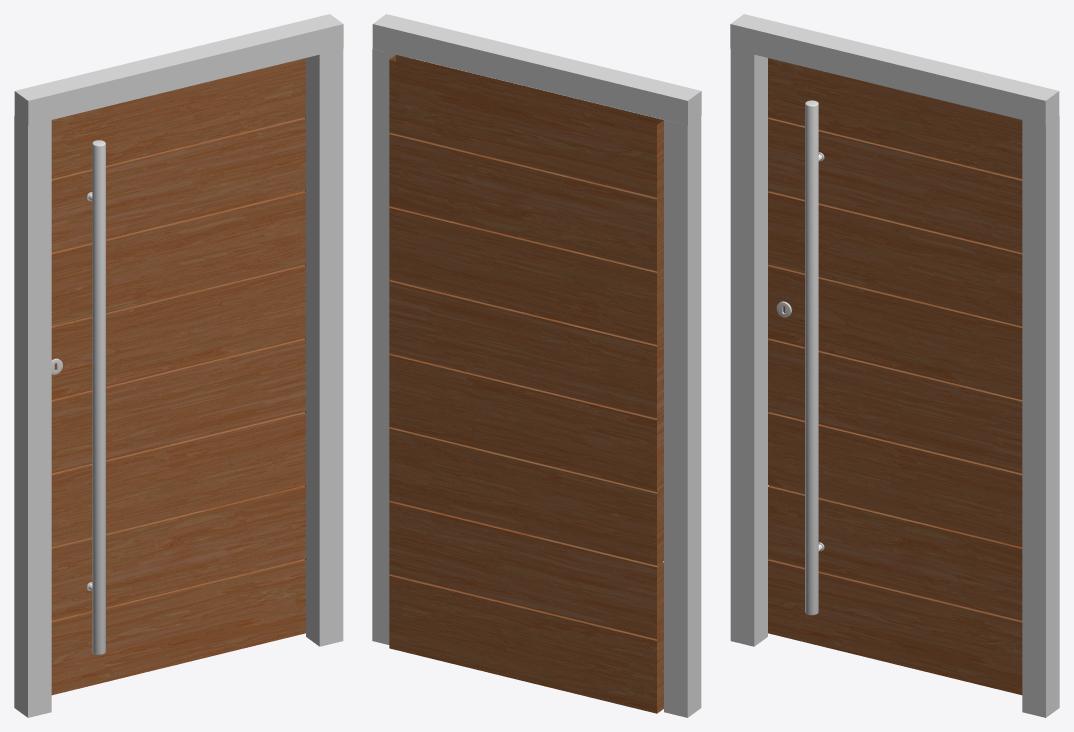
Rendered from door.fbx.
The picture shows the model from 3 angles, left to right: view 1: azimuth 30°, elevation 25°; view 2: azimuth 150°, elevation 25°; view 3: azimuth 330°, elevation 25°; orthographic projection.
Parts seen in each view (by area): view 1: Puerta 118x220, Marco 118x220; view 2: Puerta 118x220, Marco 118x220; view 3: Puerta 118x220, Marco 118x220.
Part boxes in pixels (box(x1,y1,x2,y2)): Puerta 118x220: box(51, 58, 305, 695); Marco 118x220: box(14, 14, 343, 717); Puerta 118x220: box(389, 54, 663, 713); Marco 118x220: box(372, 14, 701, 717); Puerta 118x220: box(768, 58, 1022, 695); Marco 118x220: box(730, 14, 1059, 717).
Bounding box in the file's own units: 118 × 220 × 13.41.
